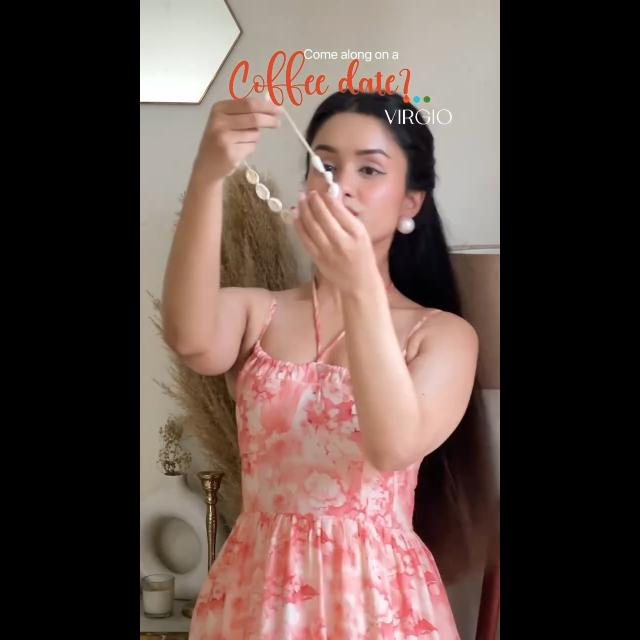dress: (216, 278, 458, 640)
